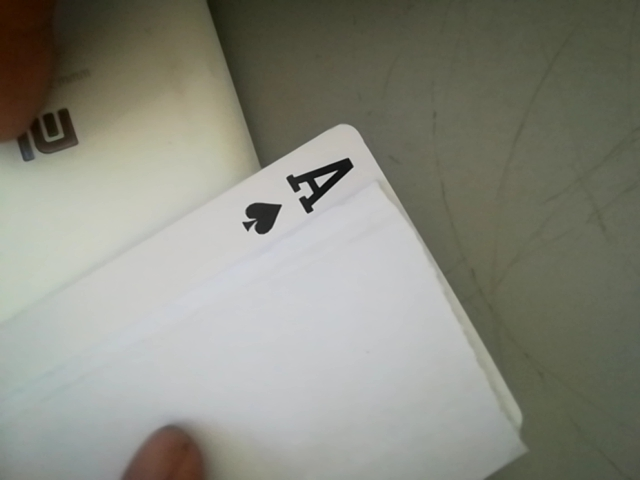ht a: (220, 148, 373, 241)
